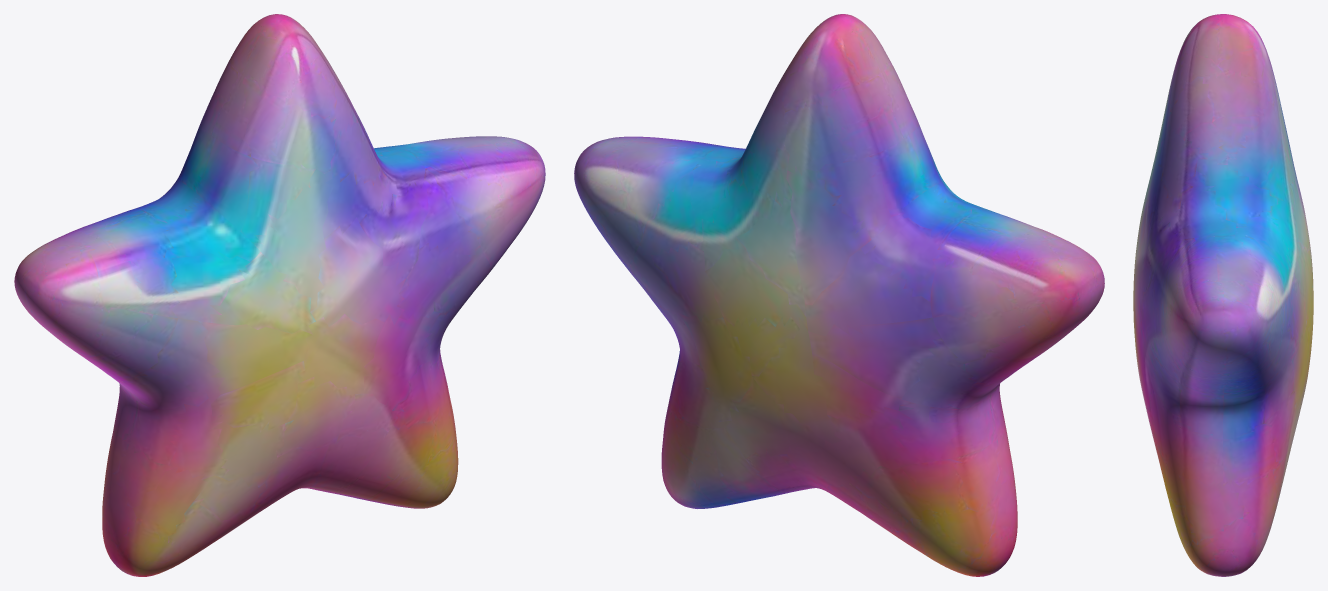
3 views of the same model, side by side, from view 1: azimuth 30°, elevation 25°; view 2: azimuth 150°, elevation 25°; view 3: azimuth 270°, elevation 25° (orthographic). The views are drawn at different scales.
Bounding box in the file's own units: 2 × 1.92 × 0.6372.
1 material, 1 textured.
